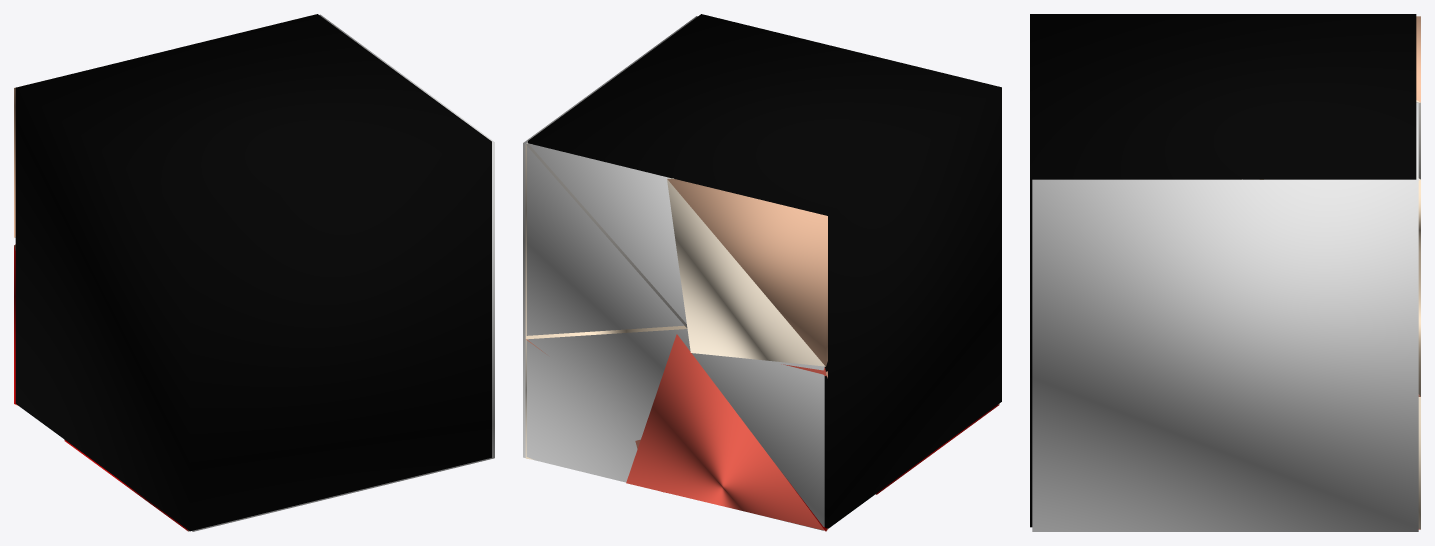
The picture shows the model from 3 angles, left to right: view 1: azimuth 30°, elevation 25°; view 2: azimuth 150°, elevation 25°; view 3: azimuth 270°, elevation 25°; orthographic projection. The views are drawn at different scales.
Parts seen in each view (by area): view 1: Renderer Node; view 2: Renderer Node; view 3: Renderer Node.
Boxes of the visible parts, x1,y1,x2,y2 form: Renderer Node: (14,14,494,531); Renderer Node: (523,14,1001,531); Renderer Node: (1030,14,1420,531).
Bounding box in the file's own units: 1.99 × 1.98 × 1.99.
